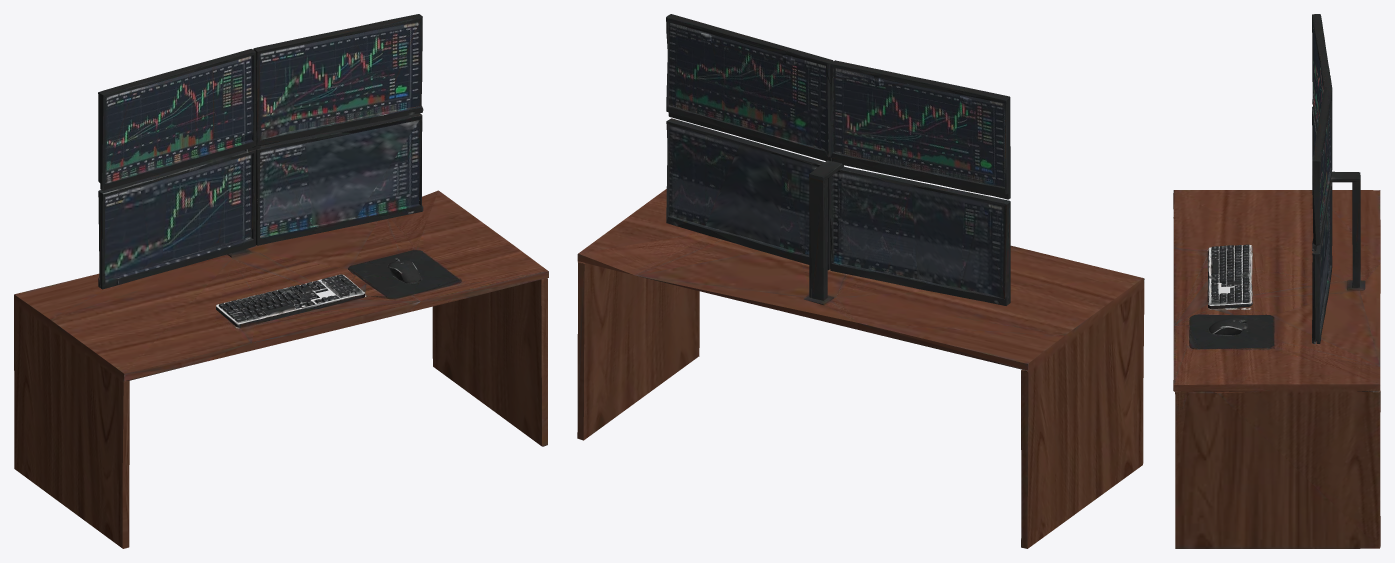
File: trading_desk_monitors.glb
3 views of the same model, side by side, from view 1: azimuth 30°, elevation 25°; view 2: azimuth 150°, elevation 25°; view 3: azimuth 270°, elevation 25° (orthographic). The views are drawn at different scales.
Visible parts, largest first — view 1: Mesh_0; view 2: Mesh_0; view 3: Mesh_0.
Boxes of the visible parts, x1,y1,x2,y2 form: Mesh_0: [14, 14, 548, 548]; Mesh_0: [577, 14, 1144, 548]; Mesh_0: [1173, 14, 1380, 548].
Size of the model in its own units: 1.6 by 1.4 by 0.7205.
1 material, 1 textured.
